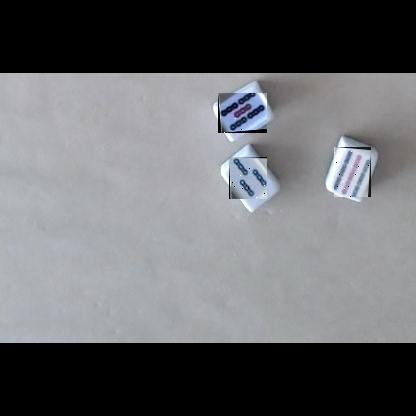3s: (229, 157, 267, 199)
5s: (218, 93, 267, 133)
9s: (334, 147, 371, 197)
